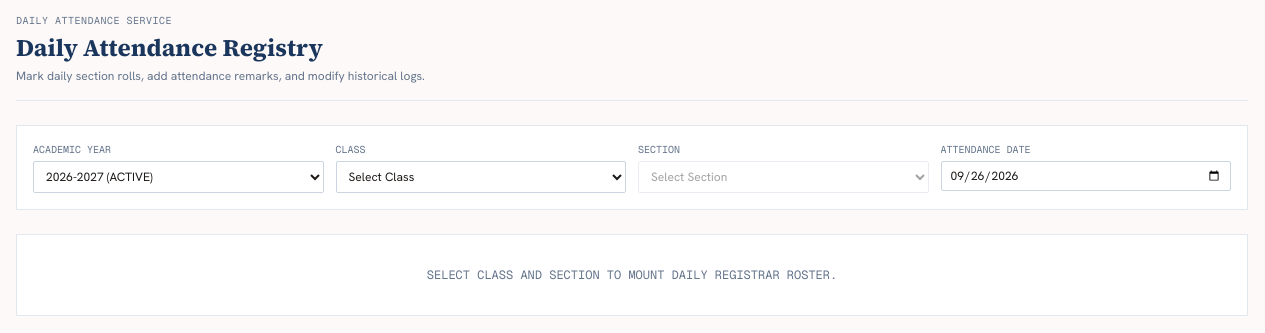
Scenario: AttendancePage Component › 3. class selection loads class-dependent sections and clearing class resets selection
This screenshot has width=1265, height=333.
Select "Nursery" in the dropdown labelled "Class" at {"x": 481, "y": 177}, box [336,161,626,193]
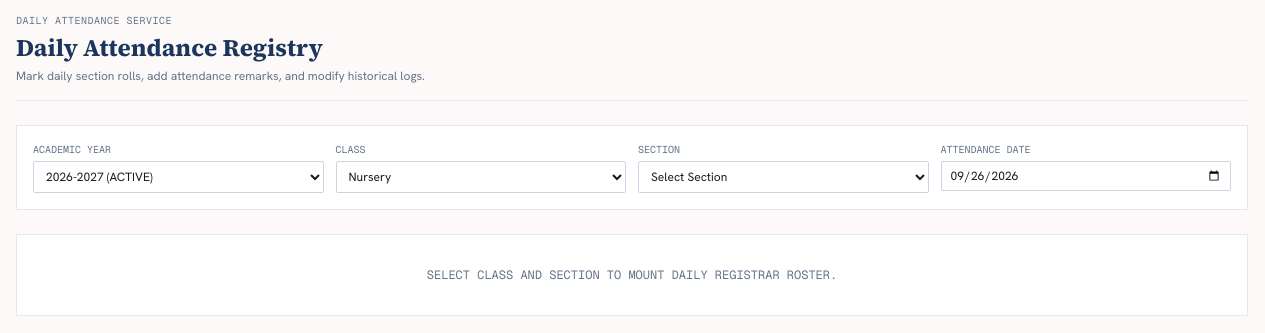
Select "Select Class" in the dropdown labelled "Class" at {"x": 481, "y": 177}, box [336,161,626,193]
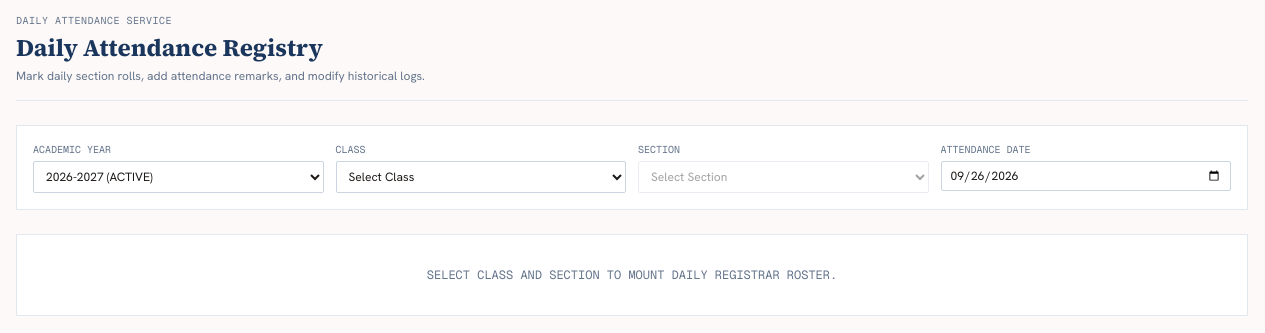
expect the dropdown labelled "Section" is disabled: met, box [638,161,928,193]
